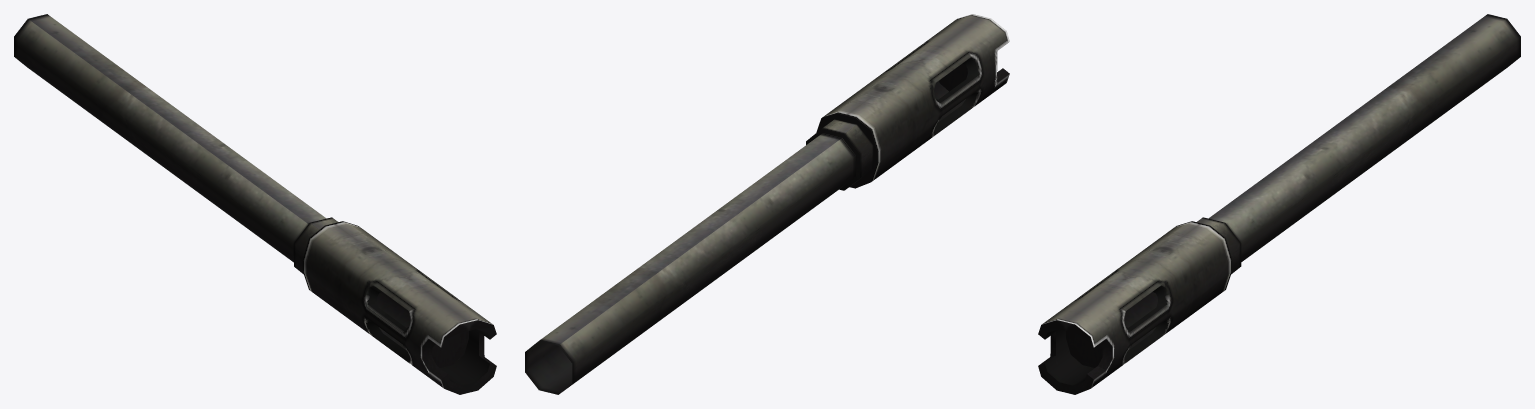
The model's file is SniperRifle_Warfare_Muzzle_4.FBX.
3 renders of one model, left to right at view 1: azimuth 30°, elevation 25°; view 2: azimuth 150°, elevation 25°; view 3: azimuth 330°, elevation 25°, orthographic.
Parts seen in each view (by area): view 1: mesh_muzzle; view 2: mesh_muzzle; view 3: mesh_muzzle.
Part boxes in pixels (x1,y1,x2,y2): mesh_muzzle: (14,14,496,394); mesh_muzzle: (525,14,1009,394); mesh_muzzle: (1038,14,1520,394).
Bounding box in the file's own units: 0.0346 × 0.0376 × 0.417.
